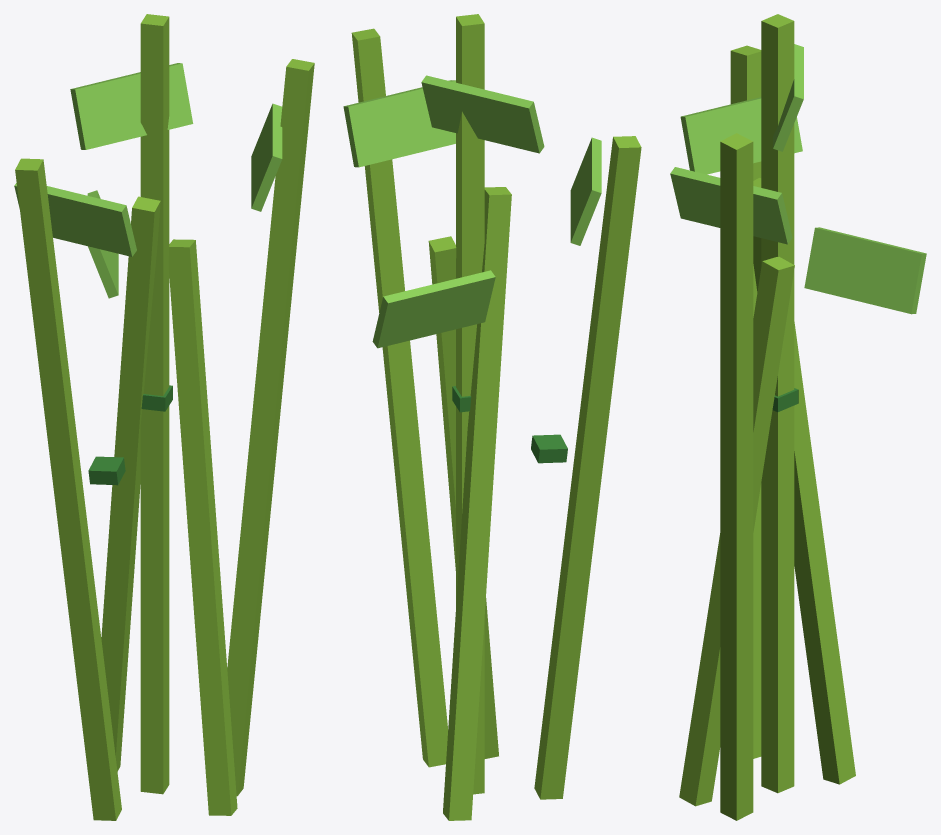
File: bambu.glb
3 renders of one model, left to right at view 1: azimuth 30°, elevation 25°; view 2: azimuth 150°, elevation 25°; view 3: azimuth 270°, elevation 25°, orthographic.
Visible parts, largest first — view 1: corpo; view 2: corpo; view 3: corpo.
Boxes of the visible parts, left/top/right/bottom form: corpo: left=14, top=14, right=314, bottom=820; corpo: left=343, top=14, right=641, bottom=820; corpo: left=670, top=14, right=926, bottom=820.
Bounding box in the file's own units: 0.329 × 0.8222 × 0.2491.
